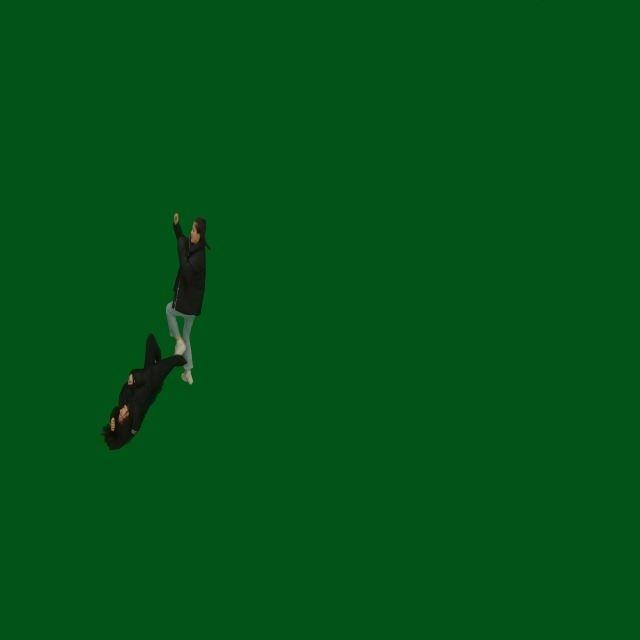fight: (103, 204, 208, 452)
